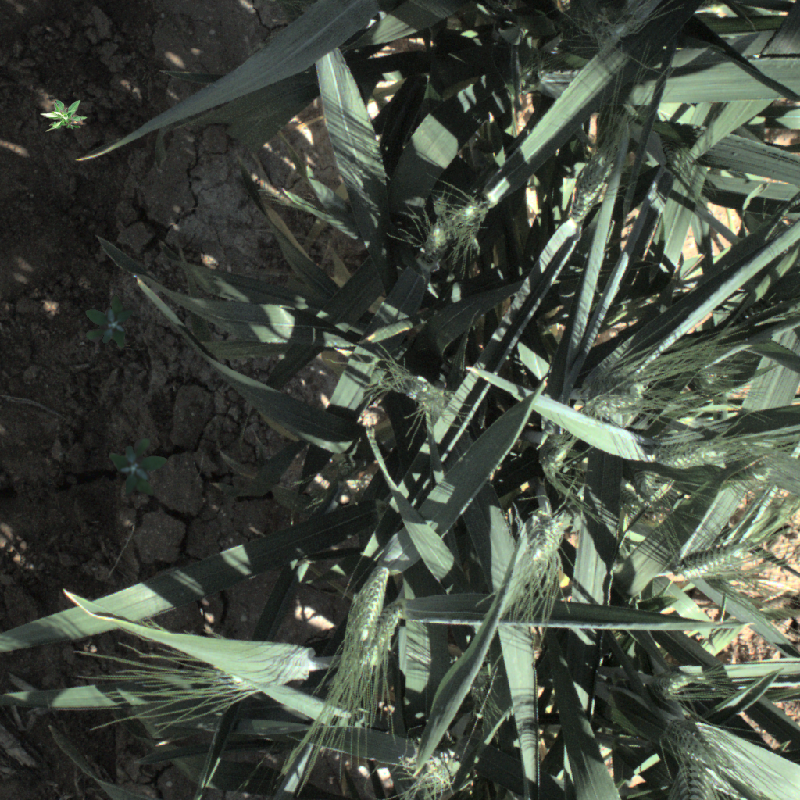spikelet: (125, 658, 319, 714), (660, 714, 726, 769), (670, 543, 751, 583), (569, 153, 613, 220), (349, 567, 389, 637), (583, 379, 648, 420), (523, 507, 568, 565), (650, 436, 725, 469), (415, 748, 462, 792), (445, 199, 487, 245), (669, 756, 712, 799), (404, 375, 447, 415)
weed: (72, 284, 148, 360), (109, 438, 167, 498), (40, 100, 88, 132)
